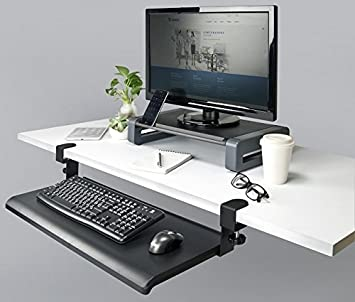keyboard: (35, 169, 167, 246)
monitor: (139, 2, 286, 124)
mouse: (147, 227, 187, 257)
